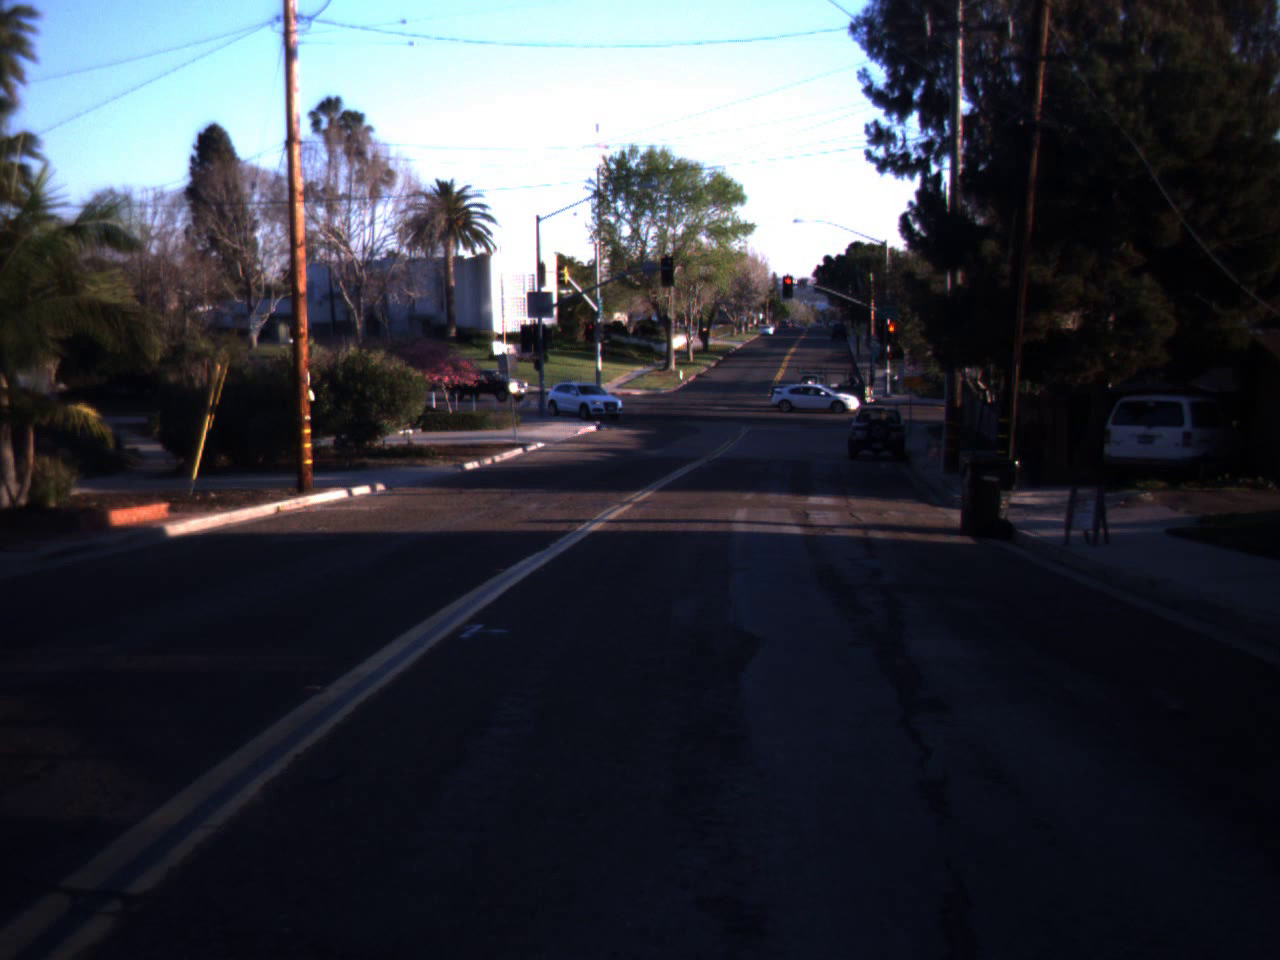stop: (886, 322, 898, 349), (584, 321, 596, 348), (781, 278, 796, 296)
